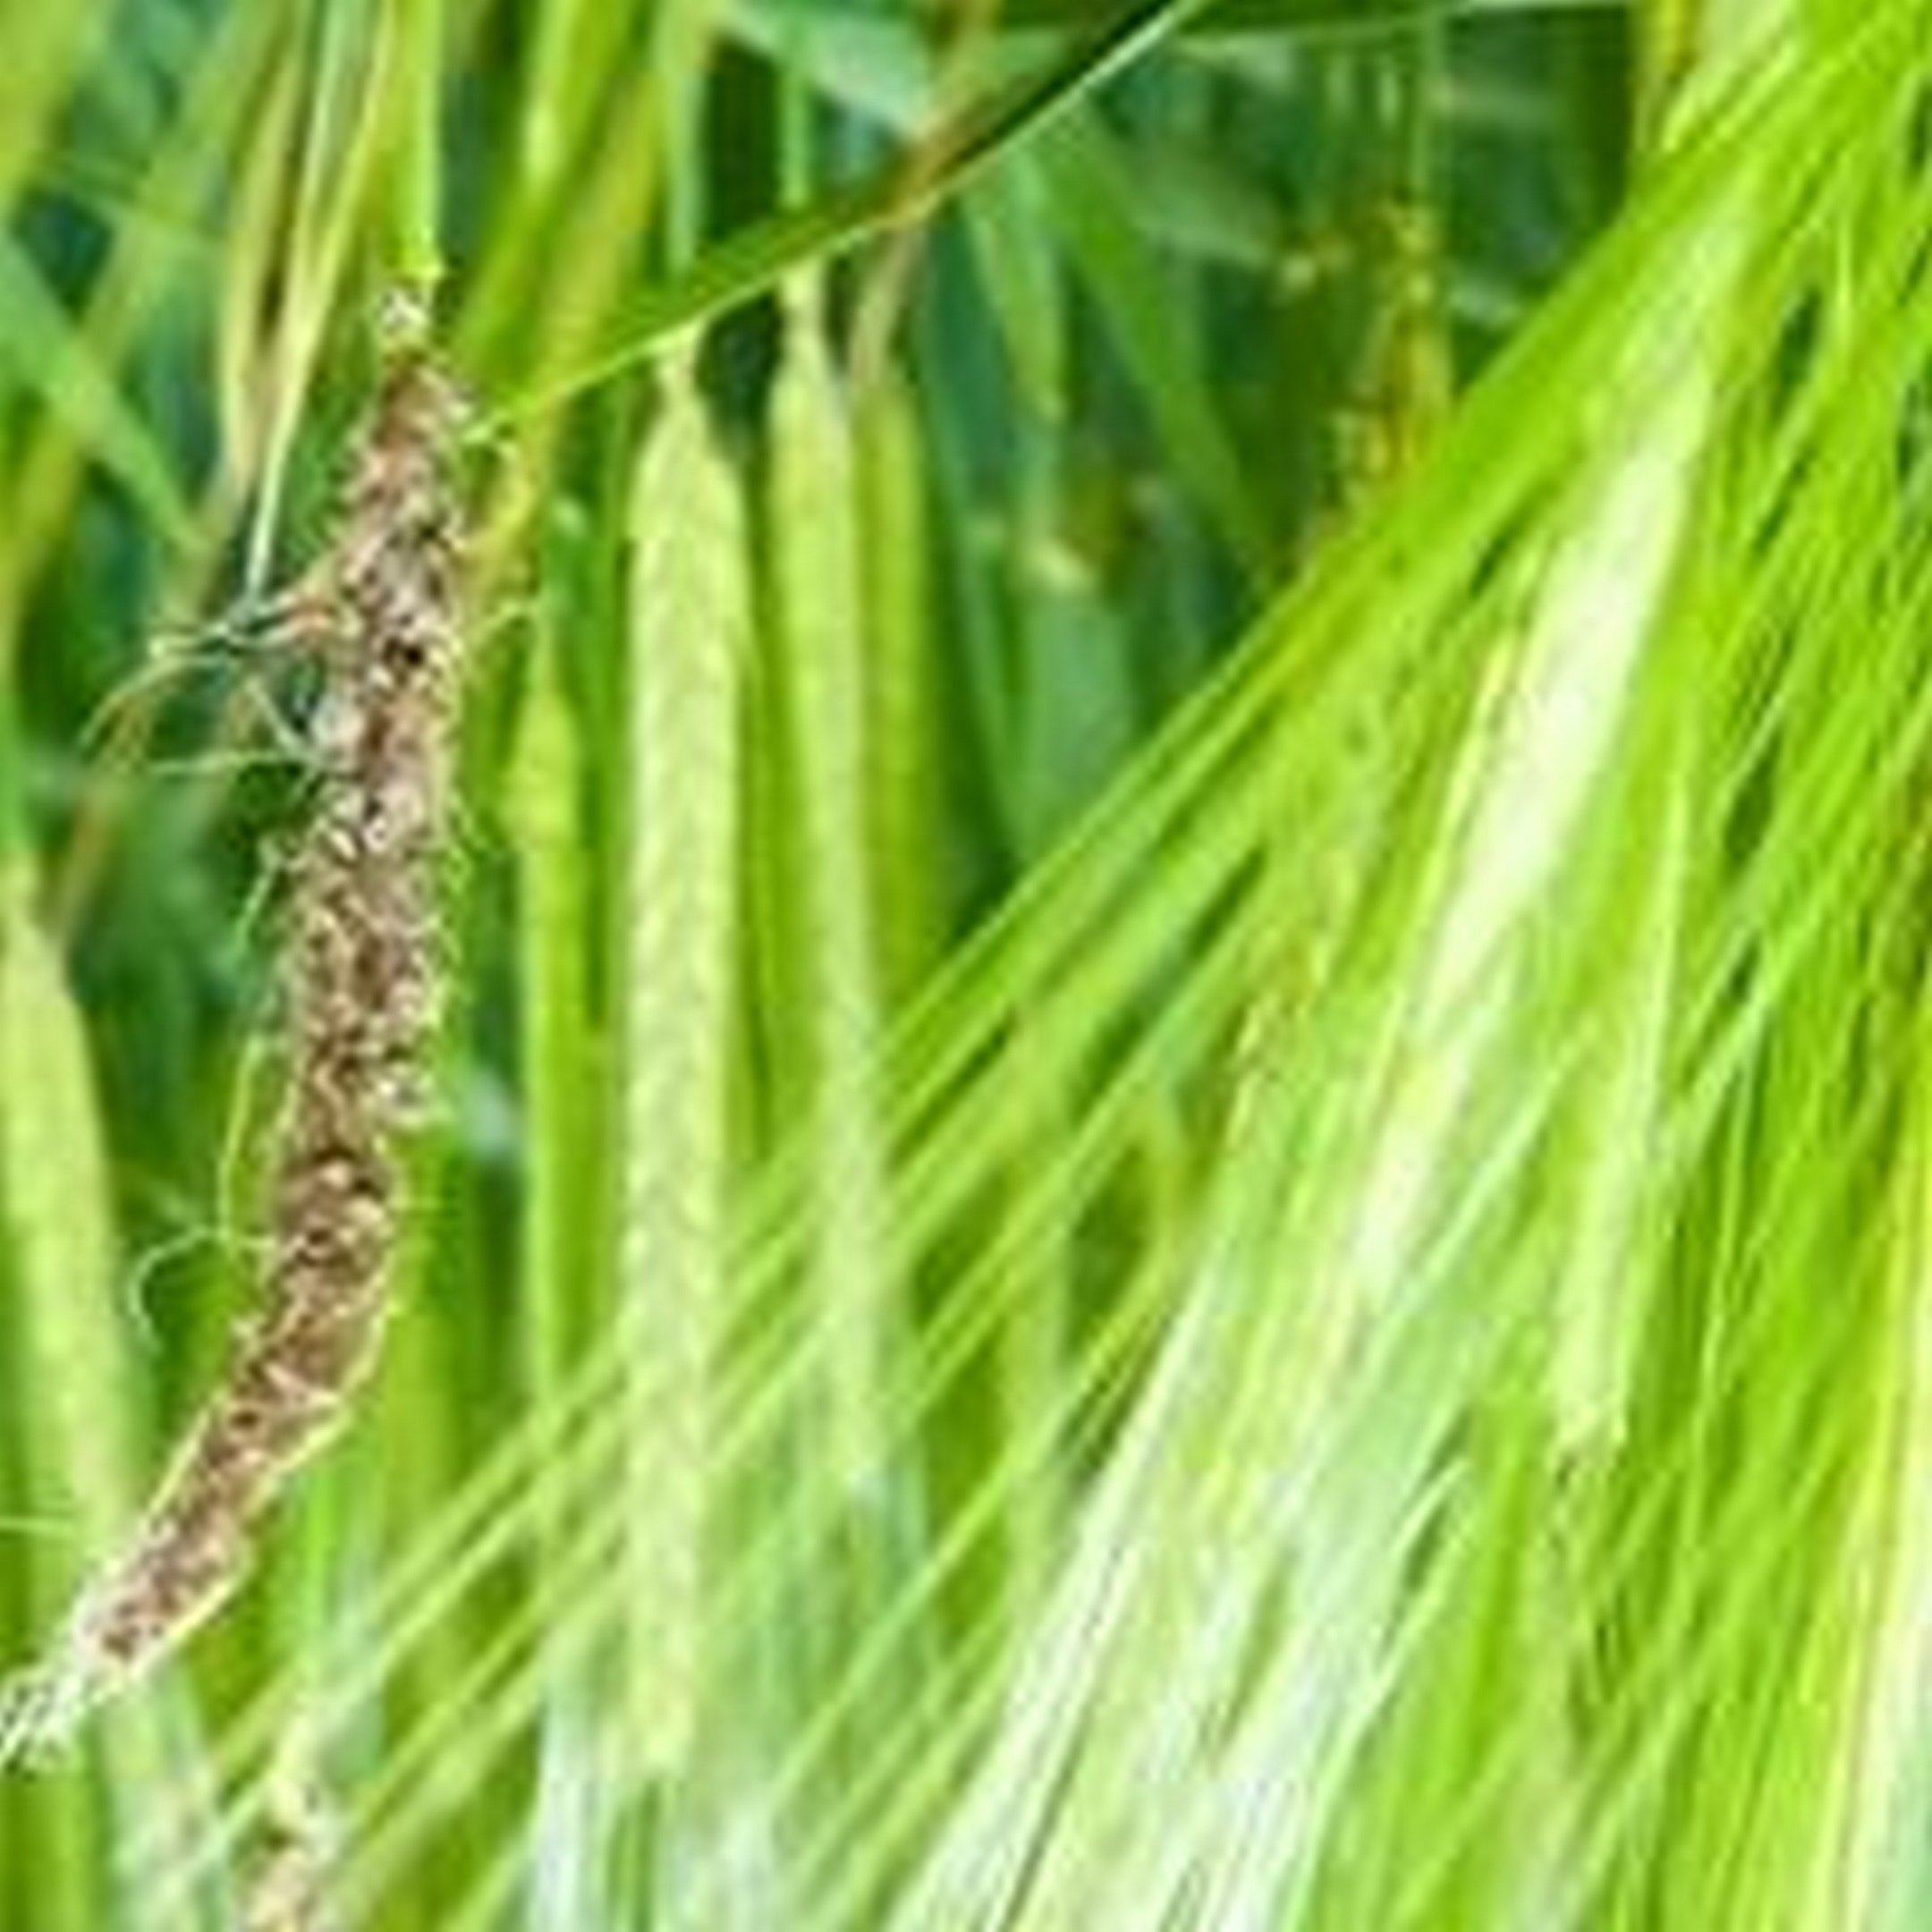Wheat Loose Smut: (83, 405, 501, 1683)
